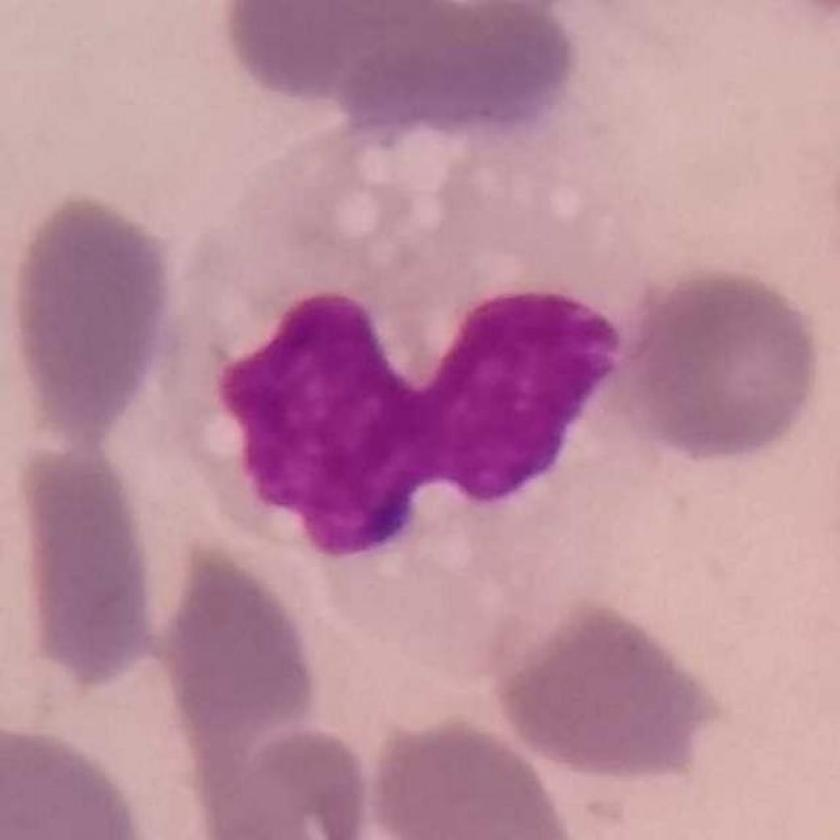monocyte: (147, 107, 685, 693)
